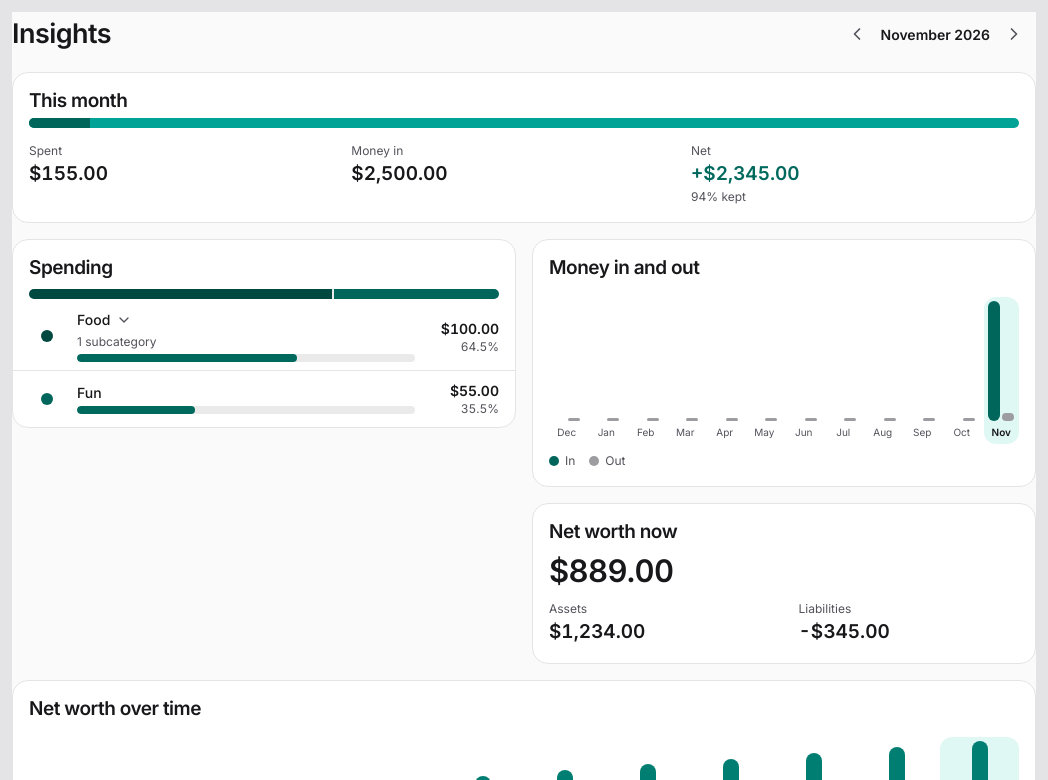
Test: what the cards say when a part is missing › shows a subcategory's share beside its amount
Click the button "Food 1 subcategory $100.00 64.5%".
click(94, 319)  # box [13,303,515,370]
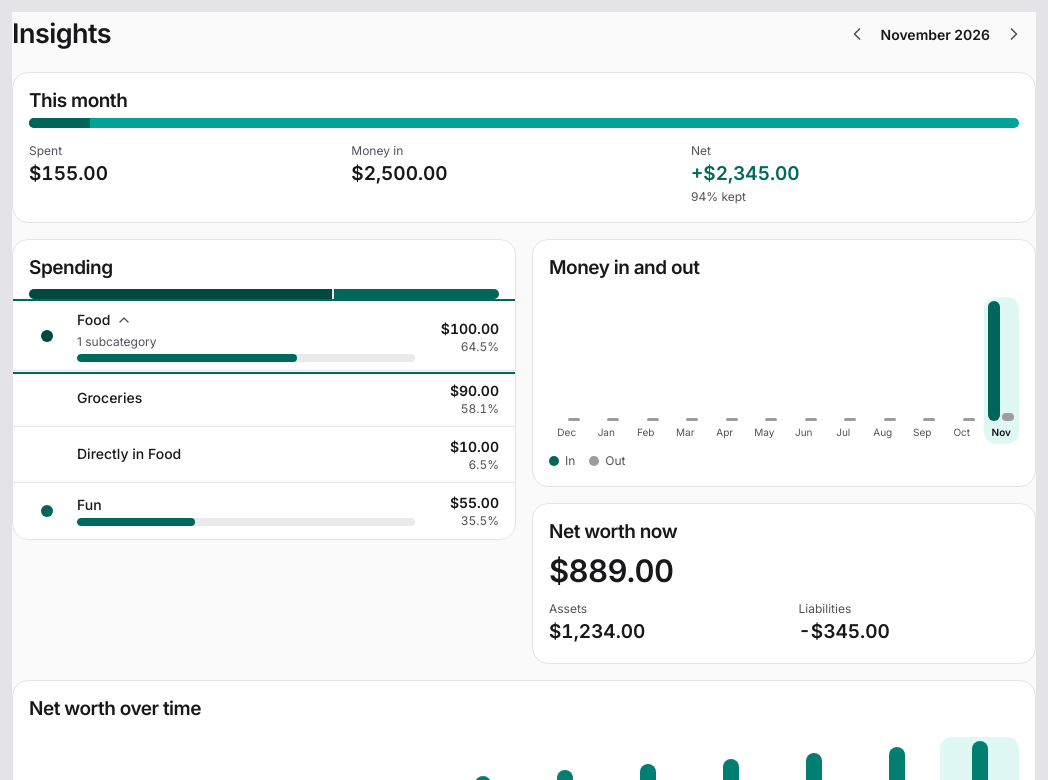
Expected: the link "Groceries $90.00 58.1%" is shown, [13,370,515,426]
